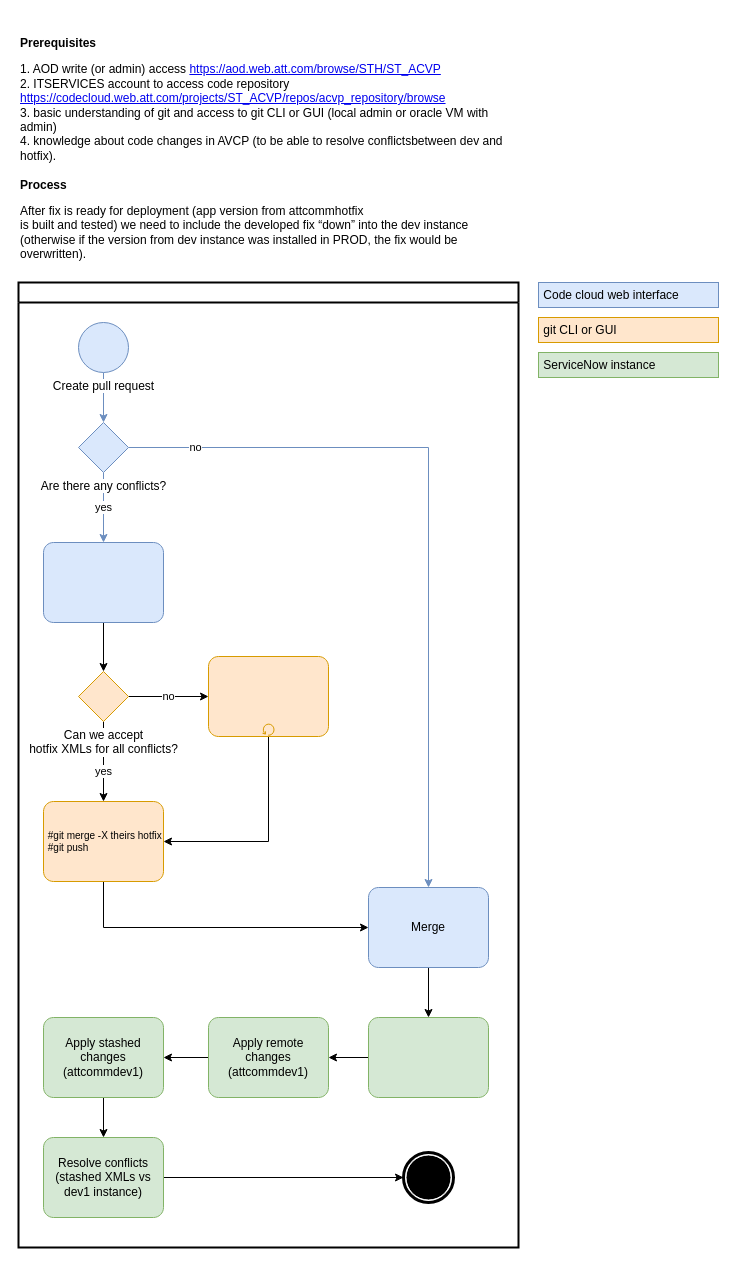
This 736x1265 diagram has some shape labels left out. Here are the shapes that lost their labels. From the top down, the box of each, then its label:
(42, 542, 164, 622): Examine conflicts
(208, 656, 328, 736): Resolve conflicts for oustanding items (commit each)
(17, 281, 519, 1248): Merge and apply hotfix into dev1
(368, 1016, 488, 1098): Stash local changes (attcommdev1)
(402, 1152, 454, 1202): hotfix is merged in dev1
